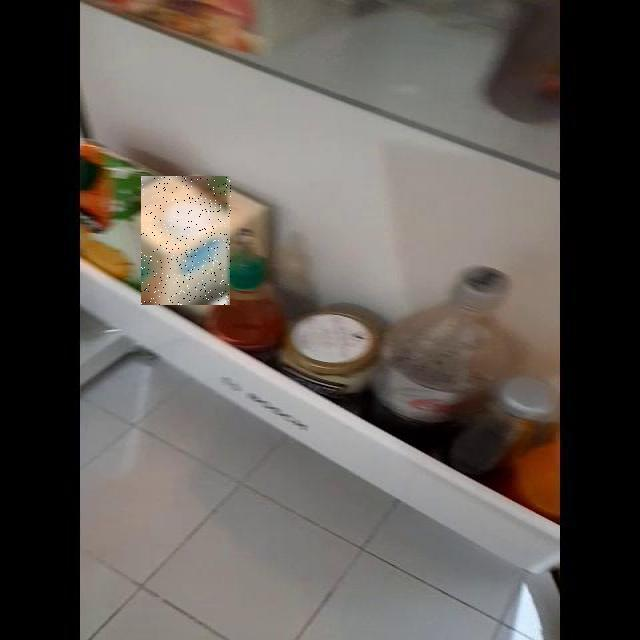Milk: (142, 176, 232, 305)
